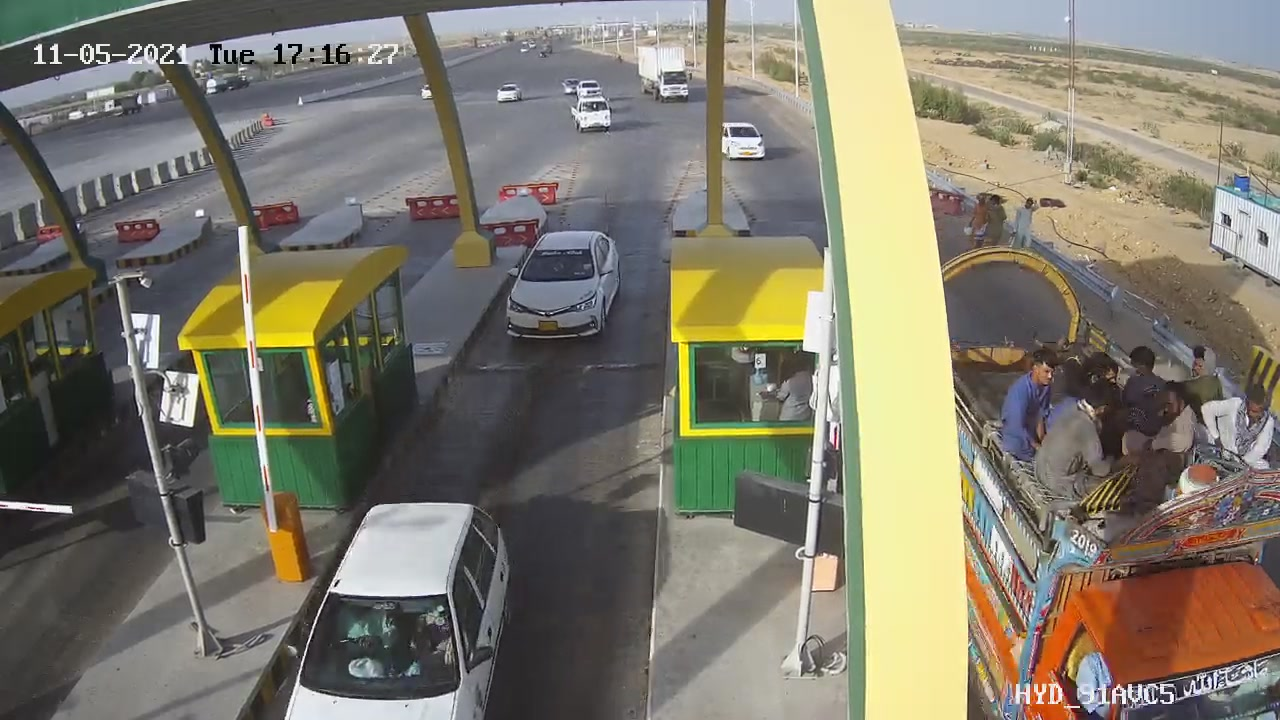F1: (490, 220, 635, 351)
